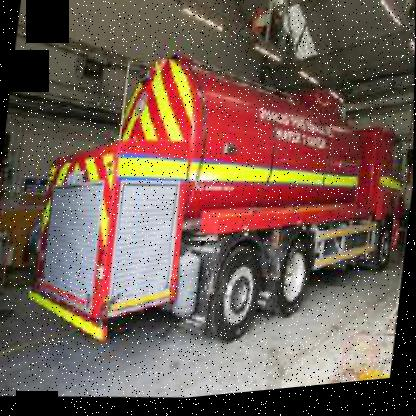emergency: (21, 26, 414, 383)
